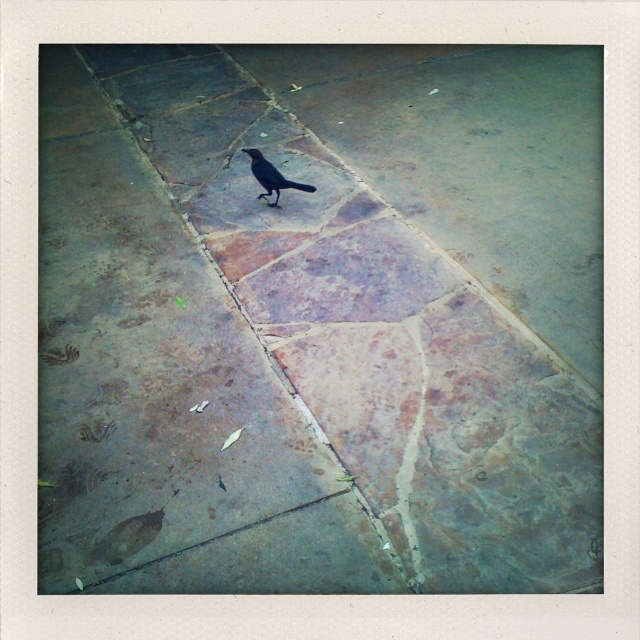Raven: (241, 146, 320, 207)
